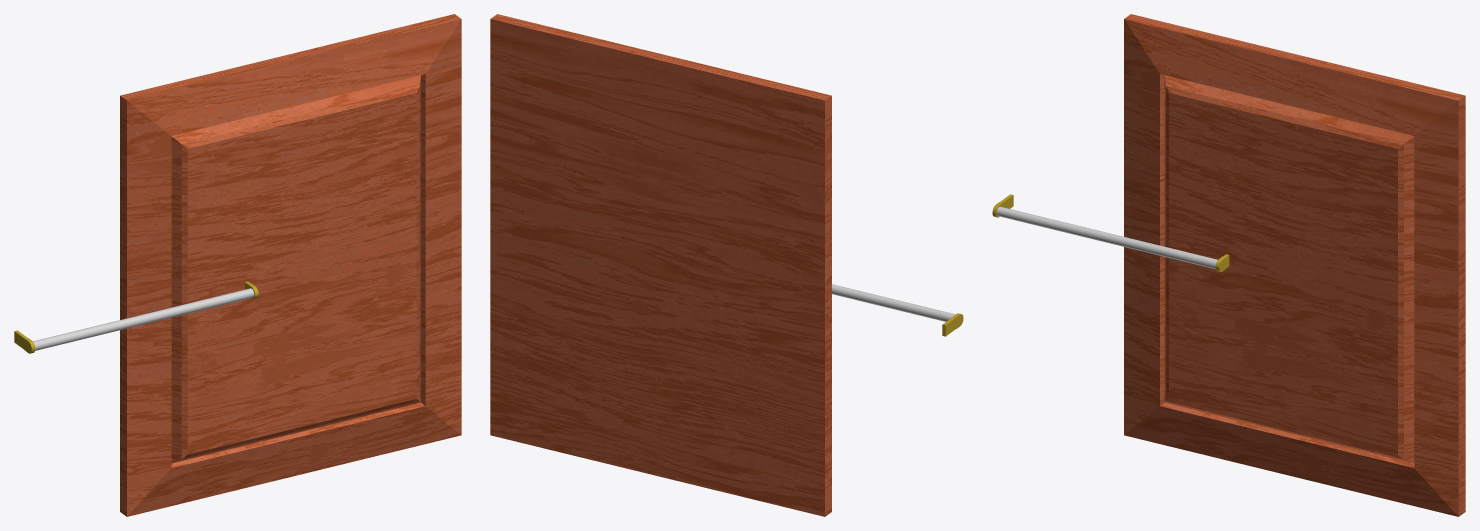
Rendered from Cabinet_20979fe9.obj.
3 renders of one model, left to right at view 1: azimuth 30°, elevation 25°; view 2: azimuth 150°, elevation 25°; view 3: azimuth 330°, elevation 25°, orthographic.
Parts seen in each view (by area): view 1: Mesh_01_1a446bf5, handle_2_305mm_01_4b8de50b; view 2: Mesh_01_1a446bf5, handle_2_305mm_01_4b8de50b; view 3: Mesh_01_1a446bf5, handle_2_305mm_01_4b8de50b.
Boxes of the visible parts, x1,y1,x2,y2 form: Mesh_01_1a446bf5: [120, 14, 461, 516]; handle_2_305mm_01_4b8de50b: [14, 281, 258, 353]; Mesh_01_1a446bf5: [490, 14, 831, 516]; handle_2_305mm_01_4b8de50b: [832, 284, 963, 336]; Mesh_01_1a446bf5: [1124, 14, 1465, 516]; handle_2_305mm_01_4b8de50b: [992, 194, 1229, 271].
Bounding box in the file's own units: 0.6025 × 0.535 × 0.0585.
